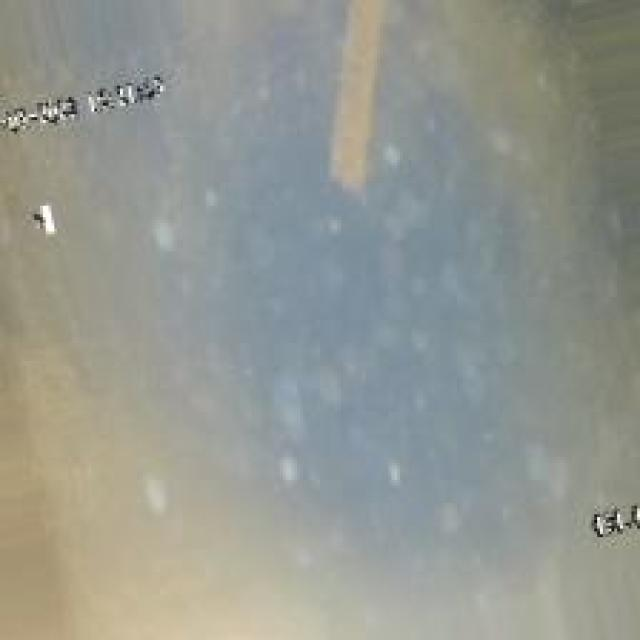ferrule: (303, 3, 400, 211)
